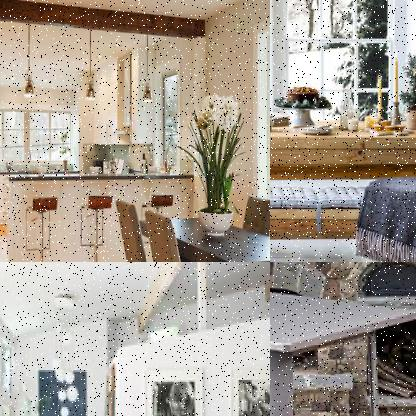table: (270, 108, 415, 261), (270, 280, 415, 415), (129, 204, 269, 261)
